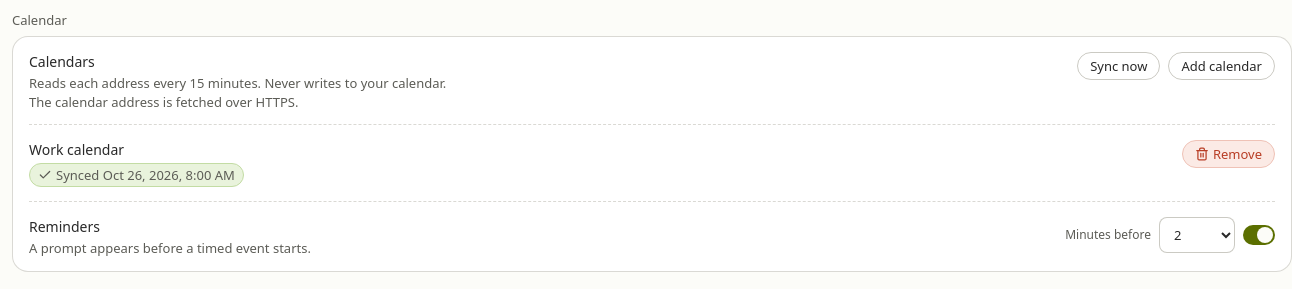
removes a feed and syncs all feeds on demand
This screenshot has width=1292, height=289.
Click the button "Sync now" at (1119, 66), box [1077,52,1160,80]
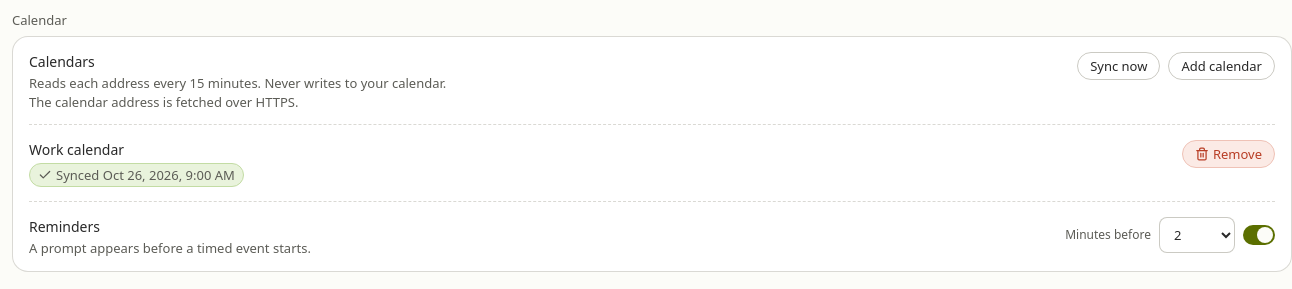
Click the button with aria-label "Remove Work calendar" at (1228, 154), box [1182,140,1275,168]
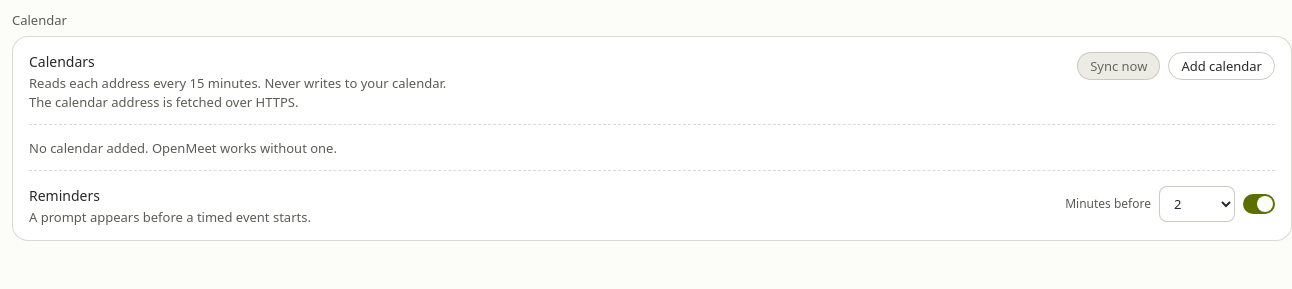
Expected: the text "No calendar added. OpenMeet works without one." is shown, [29,139,337,157]
